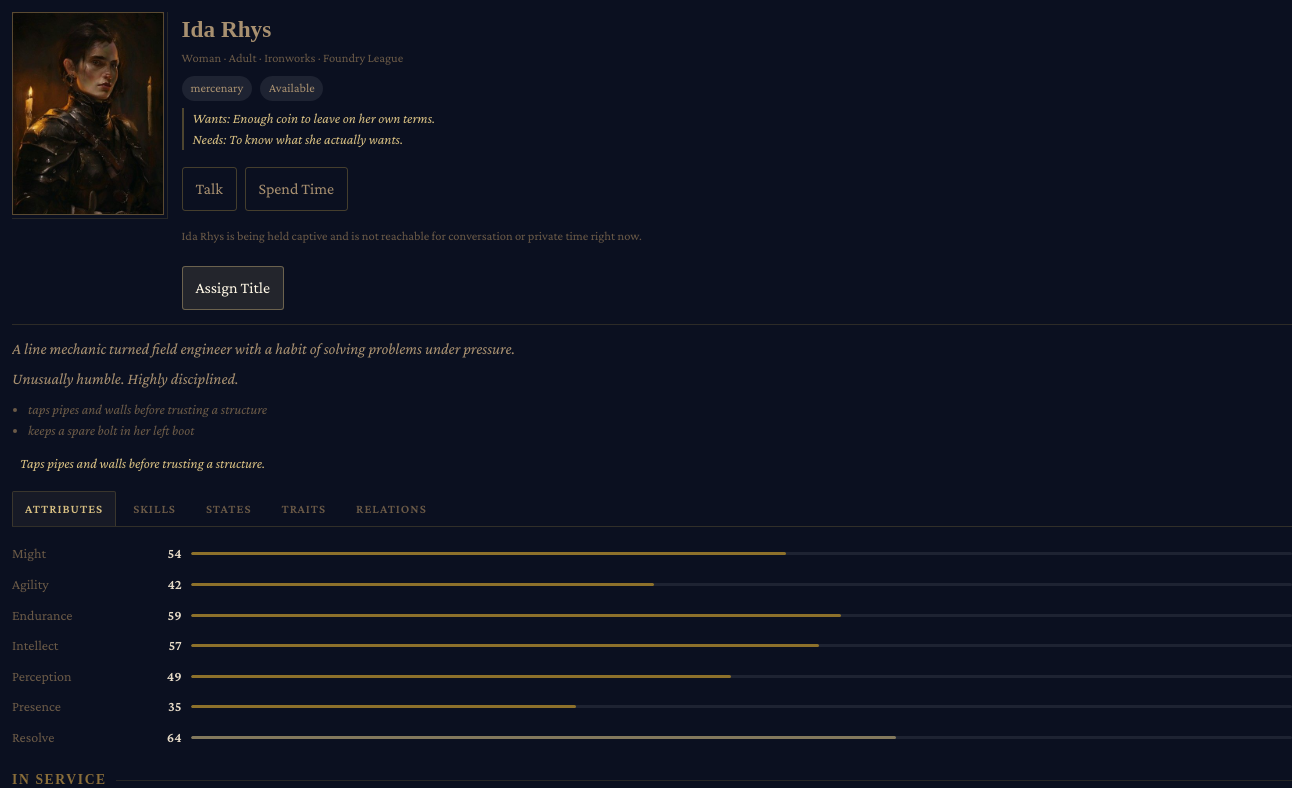
NpcDetailPanel — courtship loop › blocks all conversation, not just private actions, for a captive NPC
Check: the text "held captive" is shown, box [182, 229, 642, 243]
Click the button "Talk" at x=209, y=189, box [182, 167, 237, 211]
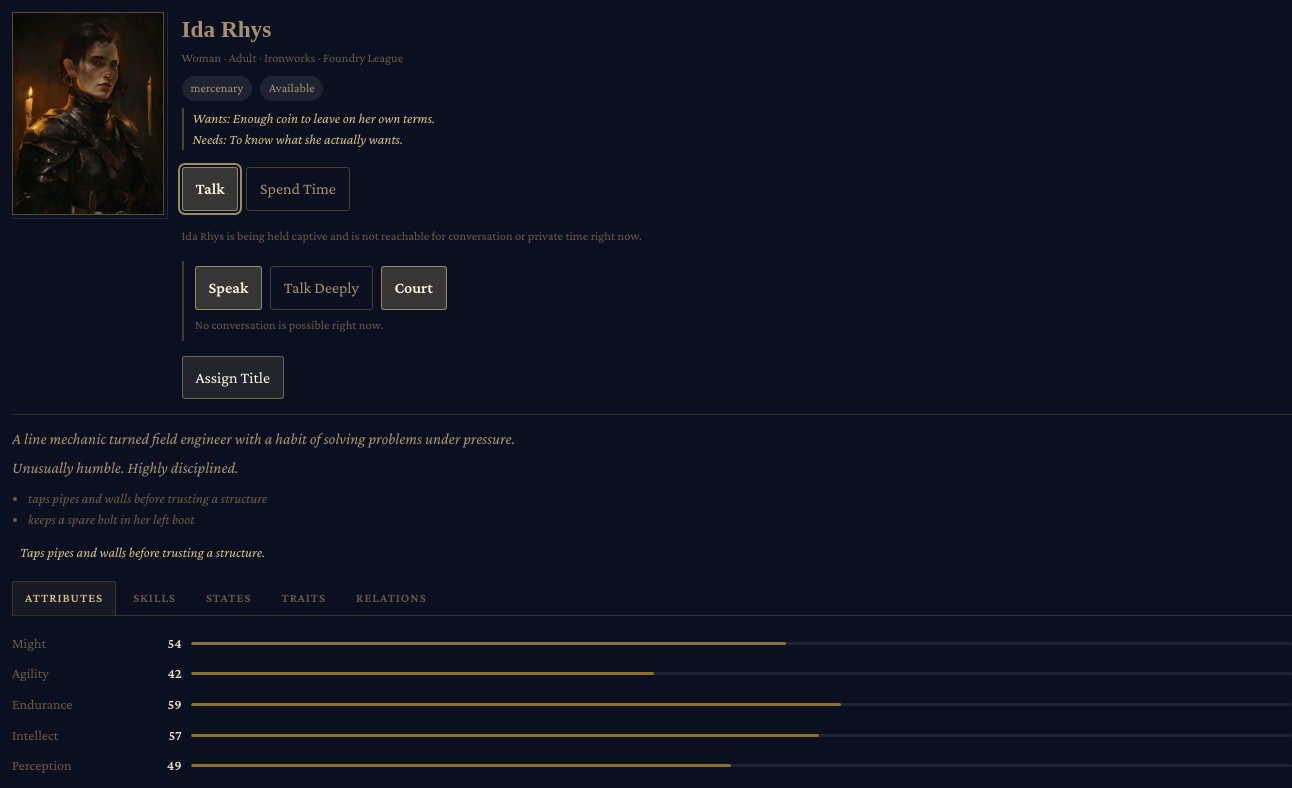
Check: the button "Speak" is disabled, box [195, 266, 262, 310]
Check: the button "Talk Deeply" is disabled, box [270, 266, 373, 310]
Check: the button "Court" is disabled, box [381, 266, 447, 310]
